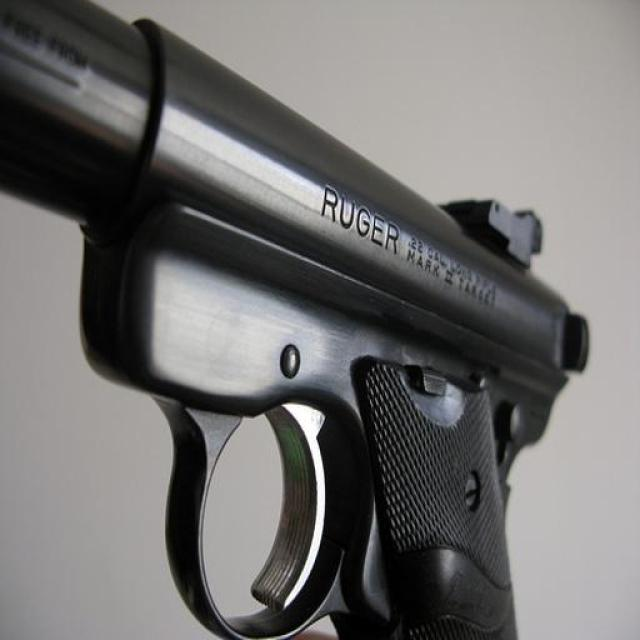pistol: (1, 1, 590, 640)
